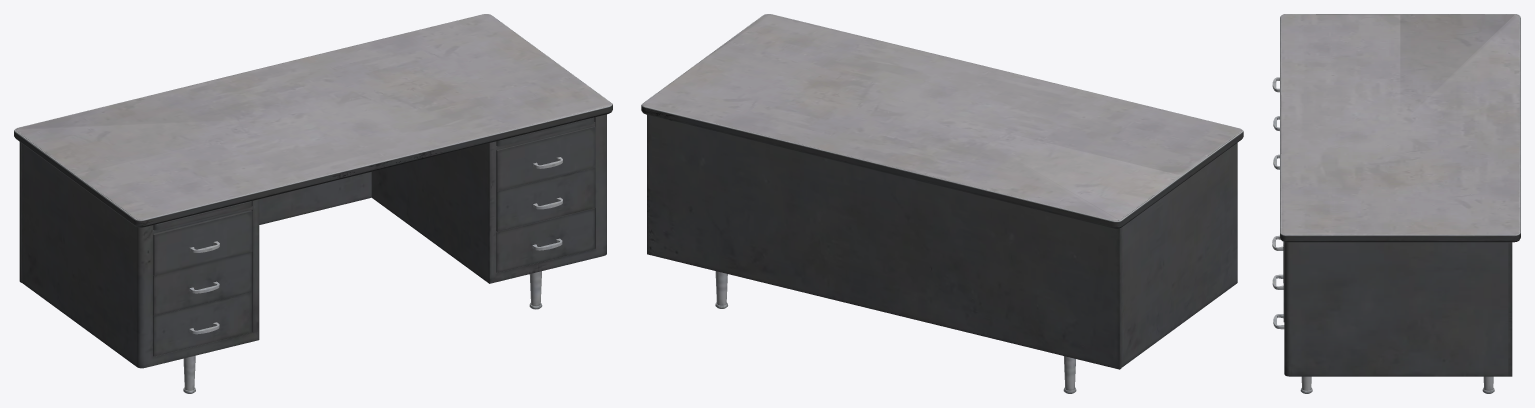
Rendered from metal_office_desk.glb.
3 views of the same model, side by side, from view 1: azimuth 30°, elevation 25°; view 2: azimuth 150°, elevation 25°; view 3: azimuth 270°, elevation 25° (orthographic). The views are drawn at different scales.
Parts seen in each view (by area): view 1: metal_office_desk_drawer_06; view 2: metal_office_desk_drawer_06; view 3: metal_office_desk_drawer_06.
Boxes of the visible parts, x1,y1,x2,y2 form: metal_office_desk_drawer_06: (14,14,612,393); metal_office_desk_drawer_06: (641,14,1243,393); metal_office_desk_drawer_06: (1272,14,1520,393).
Bounding box in the file's own units: 2 × 0.7874 × 0.9471.
Materials: 1 (1 with a texture image).
